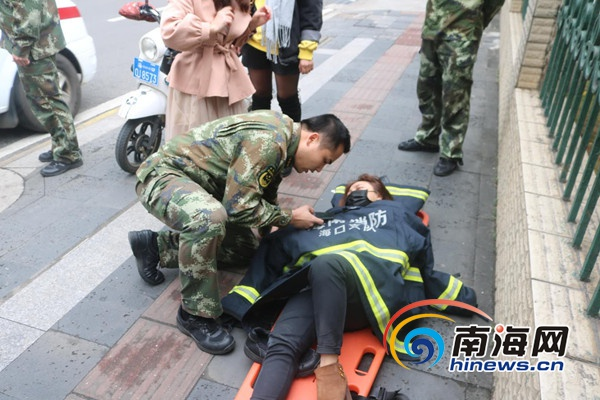fall: (201, 157, 474, 400)
